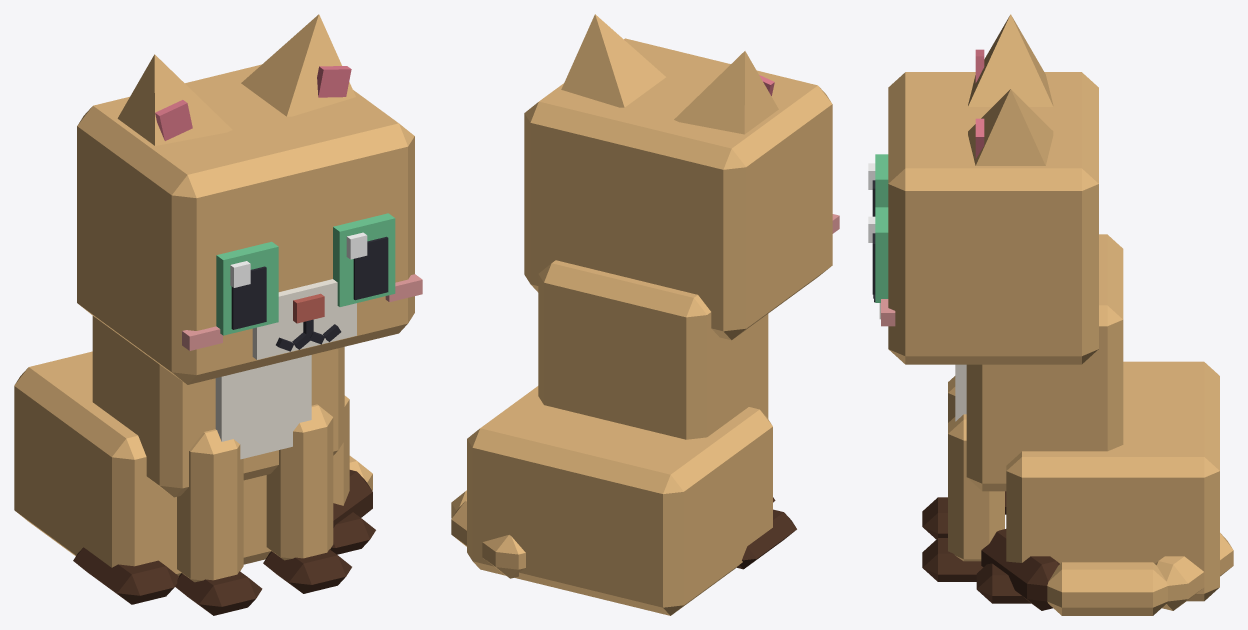
File: CatCafe_Cat_Biscuit_Sit.glb
3 views of the same model, side by side, from view 1: azimuth 30°, elevation 25°; view 2: azimuth 150°, elevation 25°; view 3: azimuth 270°, elevation 25° (orthographic). The views are drawn at different scales.
Parts seen in each view (by area): view 1: CatCafe_Cat_Biscuit_Sit_Head, CatCafe_Cat_Biscuit_Sit_Body, CatCafe_Cat_Biscuit_Sit_LegF2, CatCafe_Cat_Biscuit_Sit_LegF1, CatCafe_Cat_Biscuit_Sit_EarL, CatCafe_Cat_Biscuit_Sit_EarR, CatCafe_Cat_Biscuit_Sit_Eye2, CatCafe_Cat_Biscuit_Sit_Eye1, CatCafe_Cat_Biscuit_Sit_Tail; view 2: CatCafe_Cat_Biscuit_Sit_Body, CatCafe_Cat_Biscuit_Sit_Head, CatCafe_Cat_Biscuit_Sit_EarL, CatCafe_Cat_Biscuit_Sit_EarR, CatCafe_Cat_Biscuit_Sit_Tail; view 3: CatCafe_Cat_Biscuit_Sit_Head, CatCafe_Cat_Biscuit_Sit_Body, CatCafe_Cat_Biscuit_Sit_Tail, CatCafe_Cat_Biscuit_Sit_LegF1, CatCafe_Cat_Biscuit_Sit_EarL, CatCafe_Cat_Biscuit_Sit_EarR, CatCafe_Cat_Biscuit_Sit_Eye1, CatCafe_Cat_Biscuit_Sit_LegF2, CatCafe_Cat_Biscuit_Sit_Eye2.
Part boxes in pixels (x1,y1,x2,y2): CatCafe_Cat_Biscuit_Sit_Head: [77, 64, 422, 384]; CatCafe_Cat_Biscuit_Sit_Body: [14, 316, 375, 604]; CatCafe_Cat_Biscuit_Sit_LegF2: [175, 429, 262, 615]; CatCafe_Cat_Biscuit_Sit_LegF1: [263, 404, 351, 593]; CatCafe_Cat_Biscuit_Sit_EarL: [241, 14, 355, 116]; CatCafe_Cat_Biscuit_Sit_EarR: [117, 54, 232, 145]; CatCafe_Cat_Biscuit_Sit_Eye2: [216, 241, 278, 335]; CatCafe_Cat_Biscuit_Sit_Eye1: [333, 213, 395, 306]; CatCafe_Cat_Biscuit_Sit_Tail: [333, 456, 372, 527]; CatCafe_Cat_Biscuit_Sit_Body: [467, 260, 796, 615]; CatCafe_Cat_Biscuit_Sit_Head: [524, 38, 839, 340]; CatCafe_Cat_Biscuit_Sit_EarL: [561, 14, 665, 107]; CatCafe_Cat_Biscuit_Sit_EarR: [674, 51, 778, 134]; CatCafe_Cat_Biscuit_Sit_Tail: [451, 490, 525, 578]; CatCafe_Cat_Biscuit_Sit_Head: [873, 72, 1098, 364]; CatCafe_Cat_Biscuit_Sit_Body: [955, 234, 1219, 603]; CatCafe_Cat_Biscuit_Sit_Tail: [981, 529, 1233, 615]; CatCafe_Cat_Biscuit_Sit_LegF1: [922, 414, 1004, 581]; CatCafe_Cat_Biscuit_Sit_EarL: [968, 89, 1053, 165]; CatCafe_Cat_Biscuit_Sit_EarR: [968, 14, 1053, 106]; CatCafe_Cat_Biscuit_Sit_Eye1: [868, 207, 888, 302]; CatCafe_Cat_Biscuit_Sit_LegF2: [922, 376, 955, 539]; CatCafe_Cat_Biscuit_Sit_Eye2: [868, 154, 888, 216].
Size of the model in its own units: 1.05 by 1.85 by 1.22.
1 material, 1 textured.
